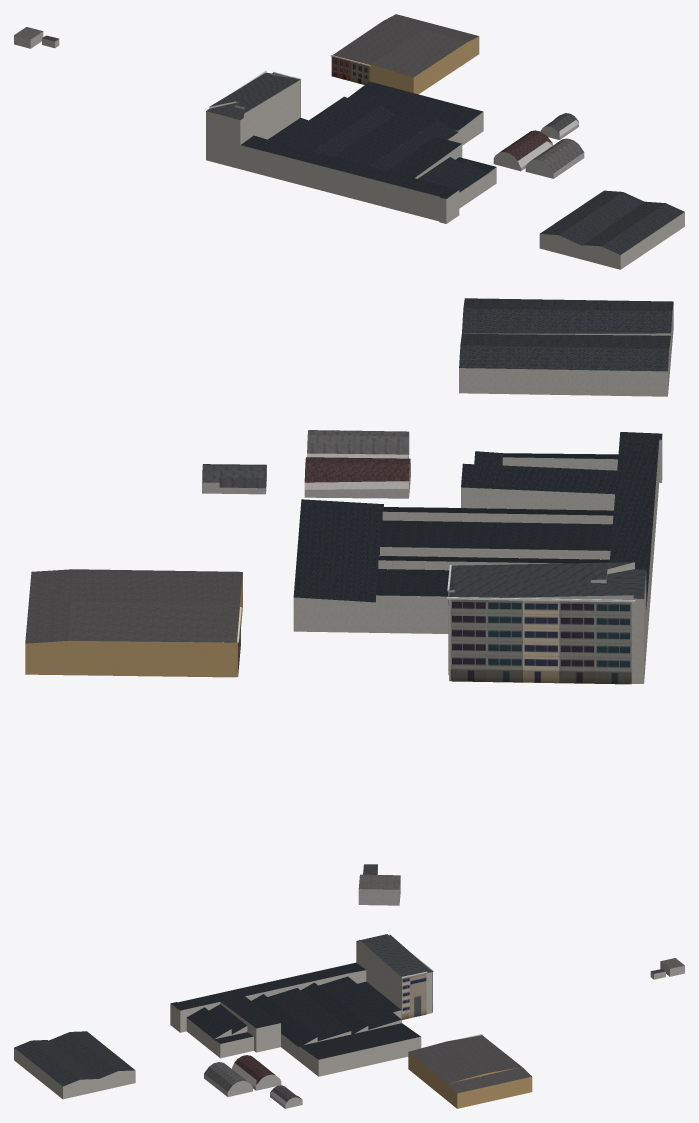
The picture shows the model from 3 angles, top to bottom: view 1: azimuth 30°, elevation 25°; view 2: azimuth 150°, elevation 25°; view 3: azimuth 270°, elevation 25°; orthographic projection. The views are drawn at different scales.
Parts seen in each view (by area): view 1: bldg_6008400067_roof, bldg_6008400067, bldg_6003921197_roof, bldg_6003921198_roof, bldg_6006379213, bldg_6003921197, bldg_6003921198, bldg_6006379213_roof, bldg_6003921202_roof, bldg_6003921198_facade0, bldg_6004576619_roof, bldg_6004576619 (+1 smaller); view 2: bldg_6008400067_roof, bldg_6008400067, bldg_6006379213_facade0, bldg_6003921198_roof, bldg_6003921197_roof, bldg_6003921198, bldg_6006379213_roof, bldg_6003921197, bldg_6004576619_roof, bldg_6003921202_roof, bldg_6006379213, bldg_6004576619 (+1 smaller); view 3: bldg_6008400067_roof, bldg_6008400067, bldg_6003921198_roof, bldg_6003921197_roof, bldg_6003921198, bldg_6006379213, bldg_6003921197, bldg_6006379213_roof, bldg_6006379213_facade1, bldg_6003921202_roof, bldg_6004576619_roof, bldg_6004576619 (+3 smaller).
Boxes of the visible parts, left/top/right/bottom form: bldg_6008400067_roof: left=241, top=81, right=495, bottom=198; bldg_6008400067: left=240, top=112, right=496, bottom=223; bldg_6003921197_roof: left=540, top=190, right=684, bottom=254; bldg_6003921198_roof: left=333, top=14, right=478, bottom=77; bldg_6006379213: left=206, top=73, right=300, bottom=168; bldg_6003921197: left=539, top=212, right=684, bottom=269; bldg_6003921198: left=350, top=36, right=479, bottom=94; bldg_6006379213_roof: left=206, top=72, right=299, bottom=119; bldg_6003921202_roof: left=532, top=138, right=583, bottom=172; bldg_6003921198_facade0: left=330, top=55, right=370, bottom=84; bldg_6004576619_roof: left=499, top=130, right=552, bottom=160; bldg_6004576619: left=493, top=141, right=552, bottom=171; bldg_6008400067_roof: left=293, top=432, right=662, bottom=609; bldg_6008400067: left=293, top=437, right=662, bottom=651; bldg_6006379213_facade0: left=447, top=597, right=635, bottom=684; bldg_6003921198_roof: left=25, top=569, right=242, bottom=643; bldg_6003921197_roof: left=459, top=298, right=673, bottom=371; bldg_6003921198: left=25, top=573, right=242, bottom=677; bldg_6006379213_roof: left=449, top=562, right=646, bottom=598; bldg_6003921197: left=459, top=304, right=673, bottom=396; bldg_6004576619_roof: left=304, top=457, right=410, bottom=482; bldg_6003921202_roof: left=307, top=430, right=408, bottom=454; bldg_6006379213: left=449, top=562, right=646, bottom=683; bldg_6004576619: left=304, top=459, right=410, bottom=498; bldg_6008400067_roof: left=170, top=962, right=420, bottom=1059; bldg_6008400067: left=170, top=970, right=421, bottom=1076; bldg_6003921198_roof: left=408, top=1035, right=531, bottom=1093; bldg_6003921197_roof: left=14, top=1031, right=134, bottom=1086; bldg_6003921198: left=408, top=1052, right=532, bottom=1108; bldg_6006379213: left=356, top=940, right=432, bottom=1014; bldg_6003921197: left=14, top=1048, right=135, bottom=1099; bldg_6006379213_roof: left=357, top=934, right=432, bottom=976; bldg_6006379213_facade1: left=409, top=971, right=427, bottom=1018; bldg_6003921202_roof: left=204, top=1062, right=247, bottom=1091; bldg_6004576619_roof: left=234, top=1055, right=275, bottom=1084; bldg_6004576619: left=231, top=1063, right=281, bottom=1090.
Size of the model in its own units: 132 by 19.74 by 261.
18 materials, 14 textured.
